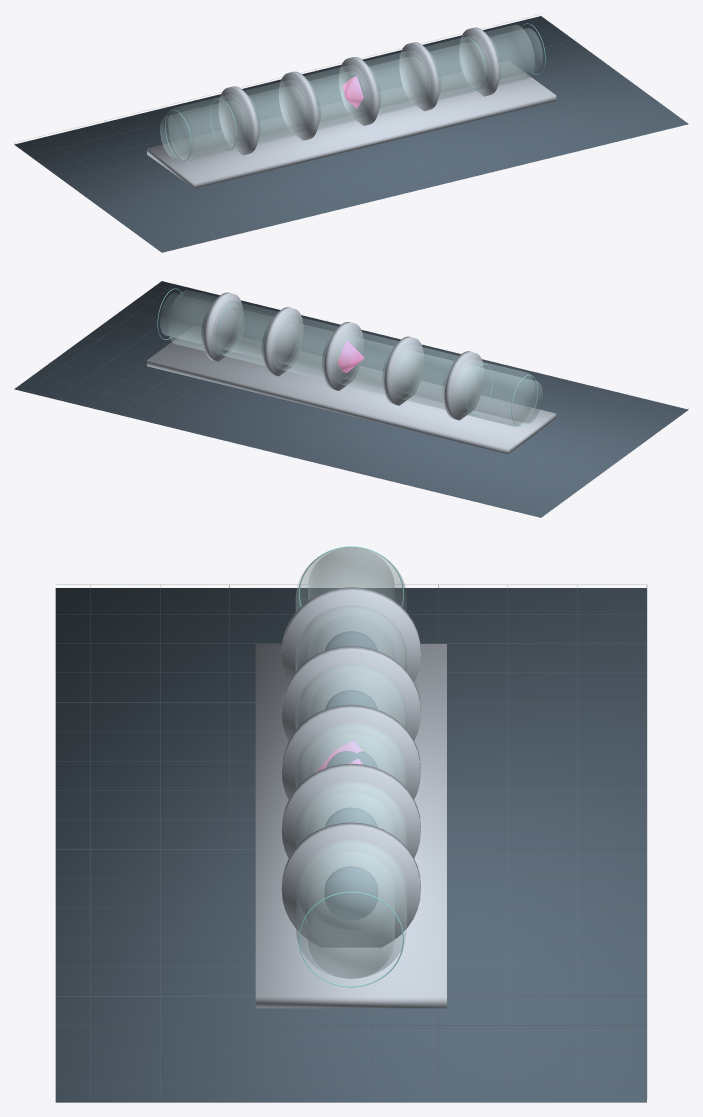
The model's file is optics.glb.
3 views of the same model, one above another, from view 1: azimuth 30°, elevation 25°; view 2: azimuth 150°, elevation 25°; view 3: azimuth 270°, elevation 25° (orthographic). The views are drawn at different scales.
Visible parts, largest first — view 1: optics_node_0002, optics_node_0020, optics_node_0004, optics_node_0021, optics_node_0014, optics_node_0005, optics_node_0008, optics_node_0017, optics_node_0011, optics_node_0003_grid, garnet_crystal; view 2: optics_node_0002, optics_node_0020, optics_node_0004, optics_node_0021, optics_node_0014, optics_node_0005, optics_node_0017, optics_node_0008, optics_node_0011, optics_node_0003_grid, garnet_crystal; view 3: optics_node_0002, optics_node_0020, optics_node_0004, optics_node_0021, optics_node_0017, optics_node_0003_grid, optics_node_0008, optics_node_0005, optics_node_0014, optics_node_0011, optics_node_0018, optics_node_0019 (+4 smaller).
Boxes of the visible parts, bbox=[...] form: optics_node_0002: bbox=[14, 16, 688, 252]; optics_node_0020: bbox=[168, 25, 534, 161]; optics_node_0004: bbox=[147, 60, 556, 189]; optics_node_0021: bbox=[160, 28, 542, 158]; optics_node_0014: bbox=[399, 42, 439, 111]; optics_node_0005: bbox=[219, 86, 258, 155]; optics_node_0008: bbox=[279, 71, 318, 140]; optics_node_0017: bbox=[460, 27, 499, 96]; optics_node_0011: bbox=[339, 57, 378, 125]; optics_node_0003_grid: bbox=[14, 15, 674, 244]; garnet_crystal: bbox=[343, 76, 363, 108]; optics_node_0002: bbox=[14, 281, 688, 517]; optics_node_0020: bbox=[168, 290, 534, 426]; optics_node_0004: bbox=[147, 325, 555, 454]; optics_node_0021: bbox=[160, 293, 542, 423]; optics_node_0014: bbox=[263, 307, 303, 376]; optics_node_0005: bbox=[444, 351, 483, 420]; optics_node_0017: bbox=[203, 292, 243, 361]; optics_node_0008: bbox=[384, 336, 423, 405]; optics_node_0011: bbox=[324, 322, 363, 390]; optics_node_0003_grid: bbox=[16, 285, 688, 513]; garnet_crystal: bbox=[337, 340, 364, 372]; optics_node_0002: bbox=[55, 588, 646, 1102]; optics_node_0020: bbox=[296, 547, 406, 978]; optics_node_0004: bbox=[255, 644, 446, 1008]; optics_node_0021: bbox=[308, 547, 394, 978]; optics_node_0017: bbox=[281, 822, 420, 947]; optics_node_0003_grid: bbox=[56, 584, 647, 1098]; optics_node_0008: bbox=[281, 646, 420, 740]; optics_node_0005: bbox=[281, 587, 420, 681]; optics_node_0014: bbox=[281, 763, 420, 858]; optics_node_0011: bbox=[281, 705, 420, 799]; optics_node_0018: bbox=[297, 842, 404, 924]; optics_node_0019: bbox=[324, 866, 378, 920].
Size of the model in its own units: 70.01 by 9.22 by 34.01.
